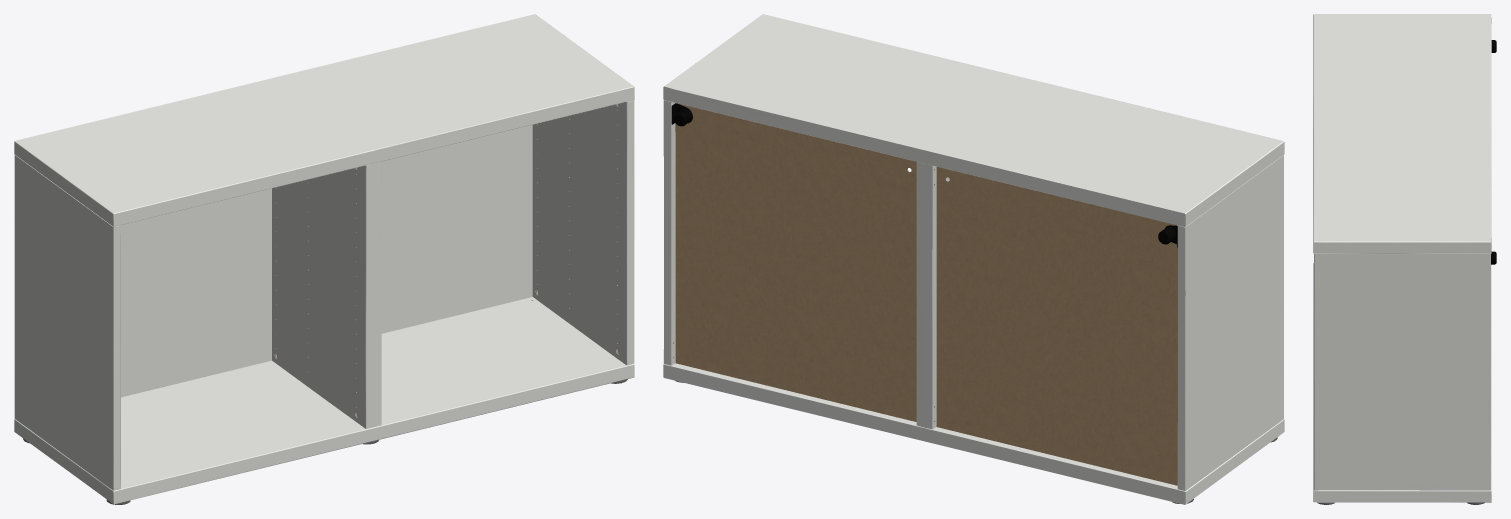
The model's file is besta_obudowa_10245846.glb.
3 renders of one model, left to right at view 1: azimuth 30°, elevation 25°; view 2: azimuth 150°, elevation 25°; view 3: azimuth 270°, elevation 25°, orthographic. The views are drawn at different scales.
Visible parts, largest first — view 1: besta_obudowa_10245846; view 2: besta_obudowa_10245846; view 3: besta_obudowa_10245846.
Part boxes in pixels (x1,y1,x2,y2): besta_obudowa_10245846: [14, 14, 634, 504]; besta_obudowa_10245846: [663, 14, 1284, 504]; besta_obudowa_10245846: [1313, 14, 1496, 504].
Bounding box in the file's own units: 1.2 × 0.6482 × 0.4071.
Materials: 1 (1 with a texture image).
